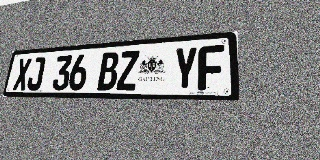3: (52, 55, 73, 90)
6: (68, 54, 89, 90)
B: (97, 52, 120, 90)
F: (198, 45, 224, 90)
J: (26, 57, 46, 90)
X: (13, 58, 32, 90)
Y: (172, 46, 198, 90)
Z: (116, 50, 140, 90)
